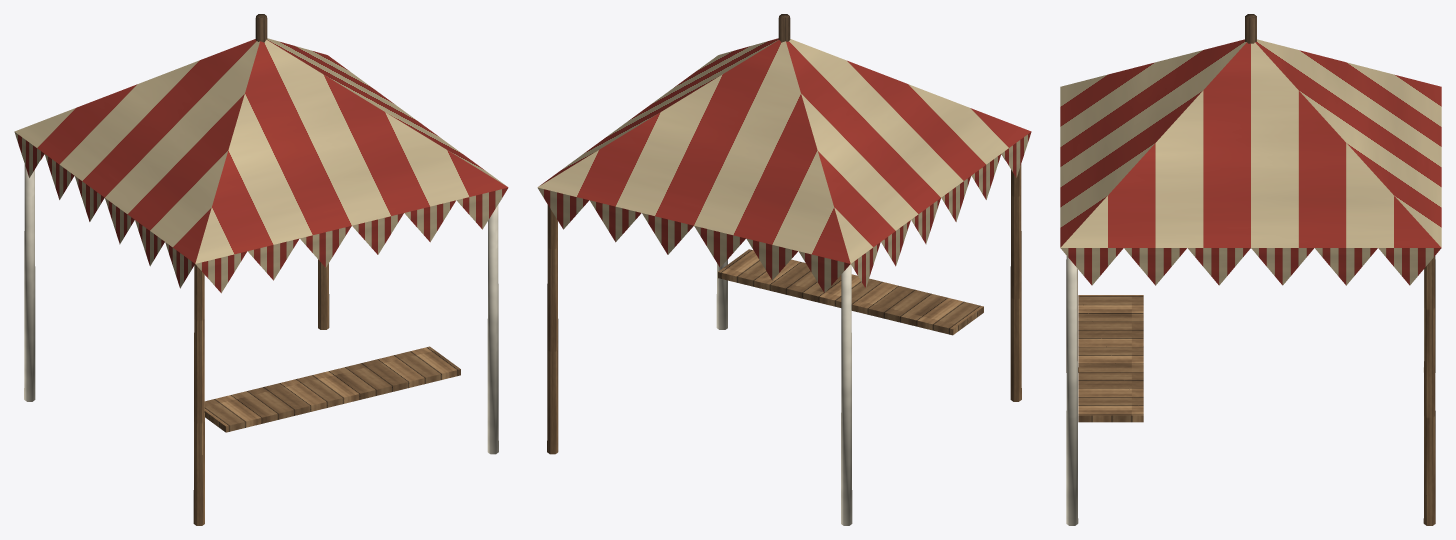
File: Stall_Tent_Market_2.gltf
3 views of the same model, side by side, from view 1: azimuth 30°, elevation 25°; view 2: azimuth 150°, elevation 25°; view 3: azimuth 270°, elevation 25° (orthographic). The views are drawn at different scales.
Visible parts, largest first — view 1: Stall_Tent_Market_2; view 2: Stall_Tent_Market_2; view 3: Stall_Tent_Market_2.
Part boxes in pixels (x1,y1,x2,y2): Stall_Tent_Market_2: (14, 14, 508, 525); Stall_Tent_Market_2: (537, 14, 1031, 525); Stall_Tent_Market_2: (1060, 14, 1441, 525).
Bounding box in the file's own units: 3.2 × 4 × 3.2.
4 materials, 4 textured.
